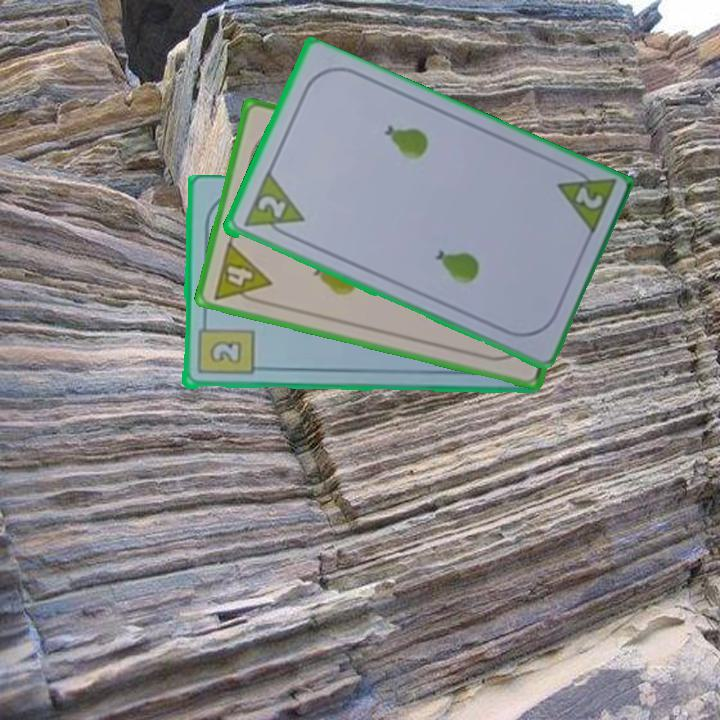2b: (194, 316, 256, 379)
2p: (239, 170, 306, 244), (570, 183, 606, 213)
4p: (209, 238, 274, 309)
